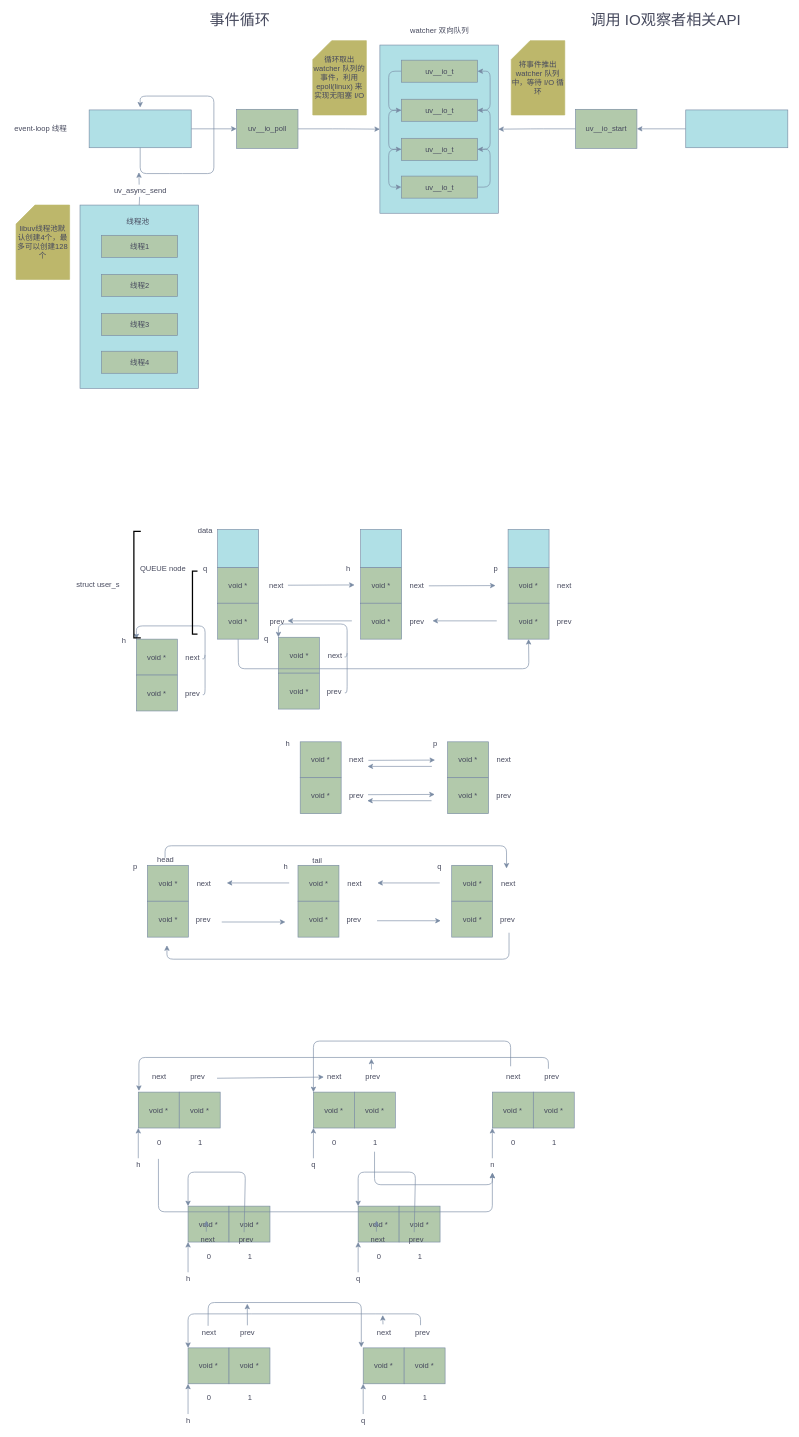
Some shapes in this 799 by 1437 pixel diagram are drawn without their labels. Here are the shapes that lost their labels. From the top down, the centre of each, then its label:
At (140,128): "uv_loop_alive() uv_run()".
At (736,128): "uv_async_start".
